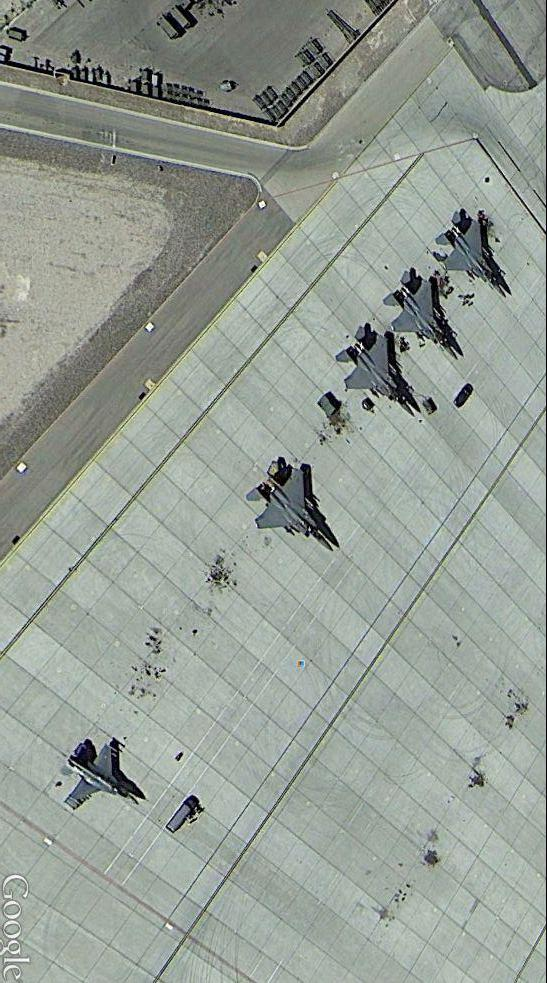F-15: (253, 457, 335, 556), (381, 267, 462, 364), (434, 201, 514, 298), (335, 322, 418, 415)
F-16: (60, 738, 143, 810)
